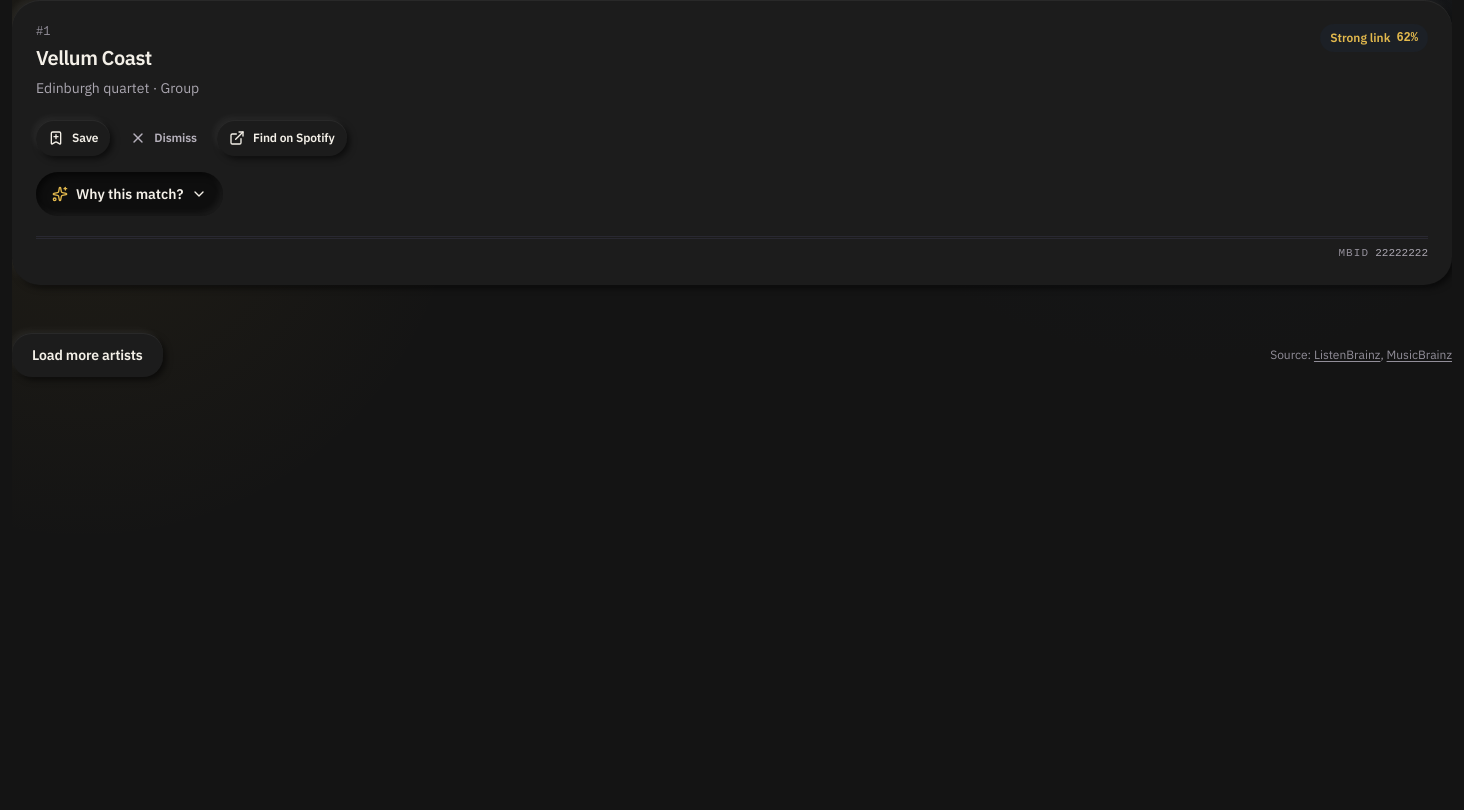
discovery results › appends the next page without duplicating a known candidate
What coordinates should you click on to do the following:
click the button "Load more artists"
I would click on:
 (87, 355)
Its box is [12,333,163,377].
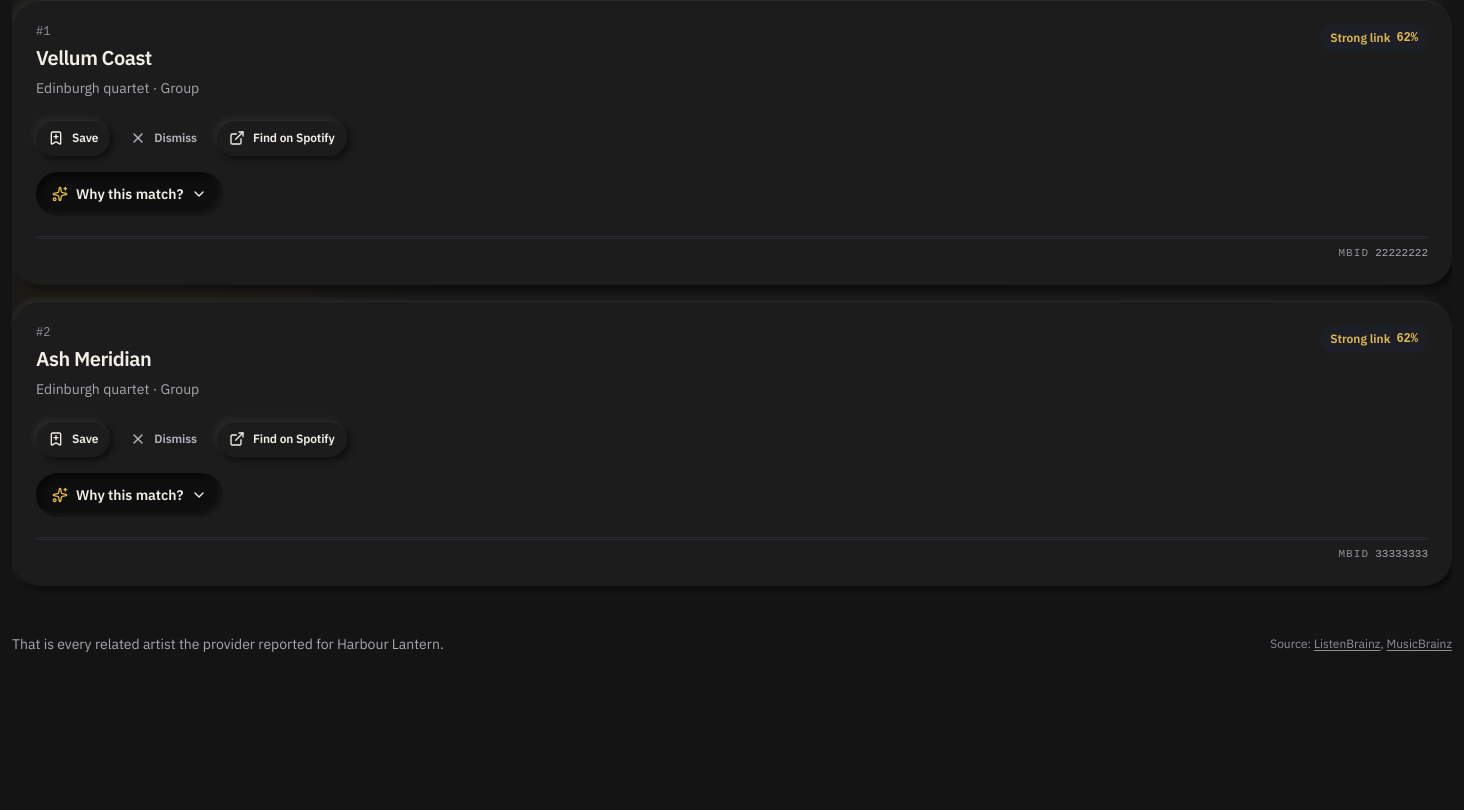
Expected: the number of headings "Vellum Coast" is 1, [36,44,152,71]
Now the heading "Ash Meridian" is shown, box [36,345,151,372]
